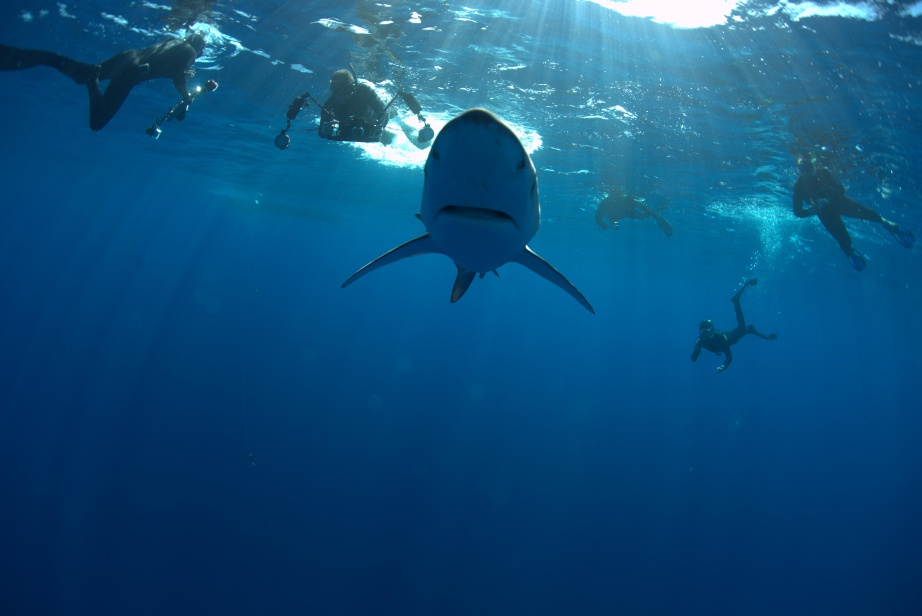Azul: (317, 119, 609, 341)
